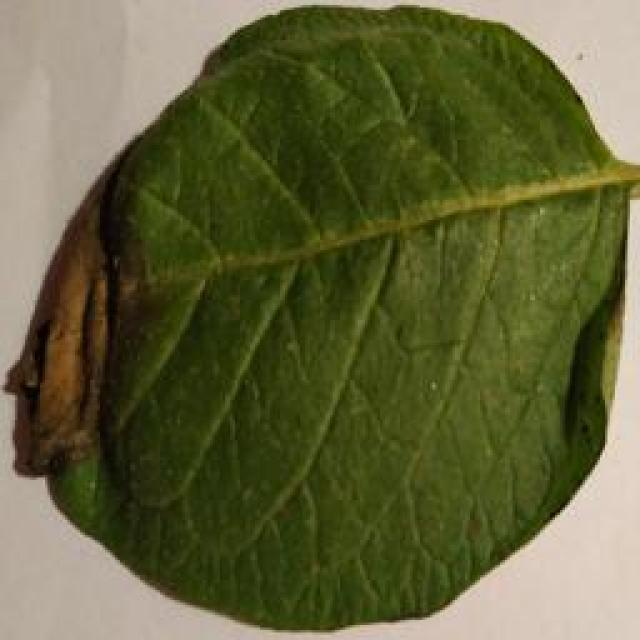Potato_Late_Blight: (2, 11, 626, 627)
